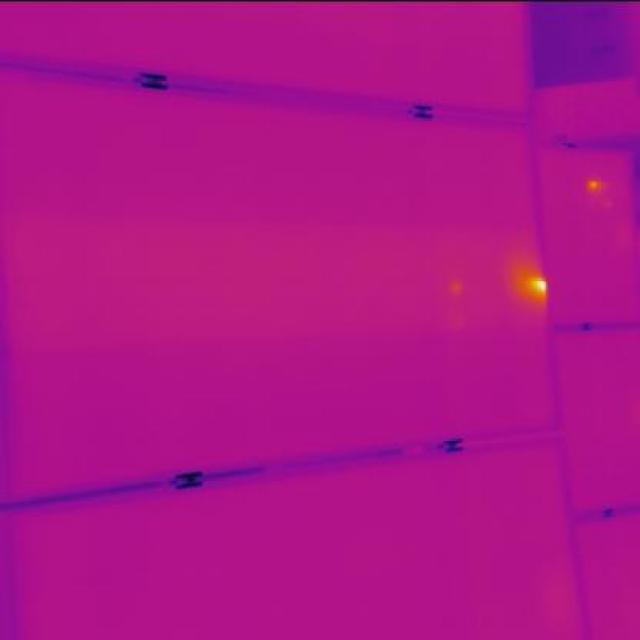hotspot: (523, 268, 554, 302)
